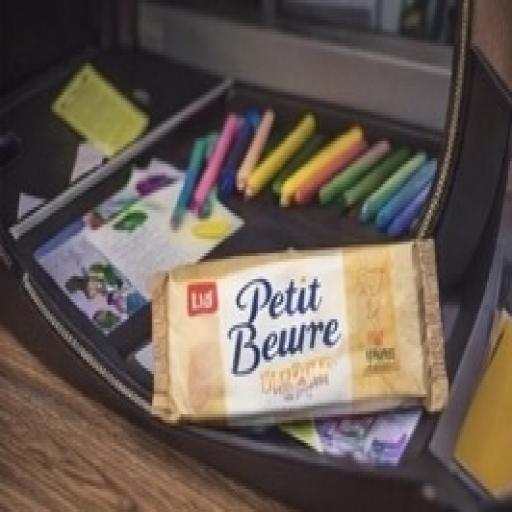petit-beurre: (106, 219, 465, 470)
